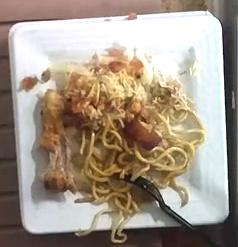asian_noodles: (80, 113, 205, 213)
taco_mix: (58, 46, 202, 138)
